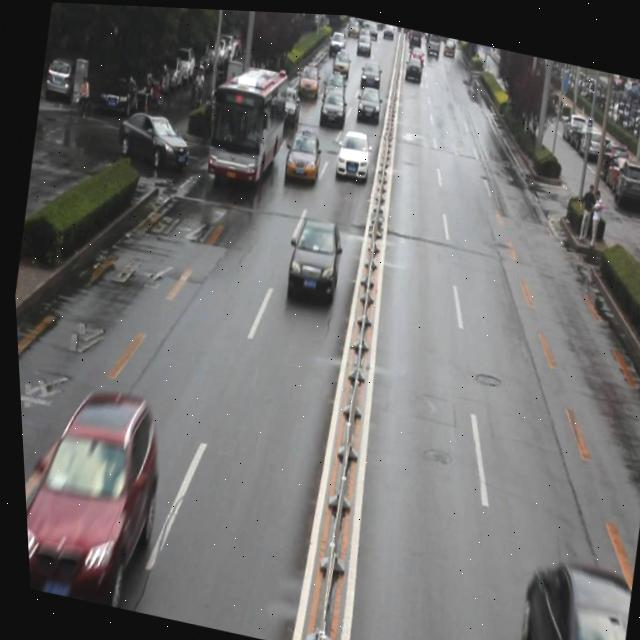car: (15, 373, 172, 613), (496, 540, 632, 640), (277, 210, 344, 299), (113, 105, 193, 174), (279, 124, 323, 181), (330, 123, 373, 178), (315, 77, 349, 123), (272, 81, 302, 122), (352, 82, 381, 119)
van: (198, 53, 293, 191)
